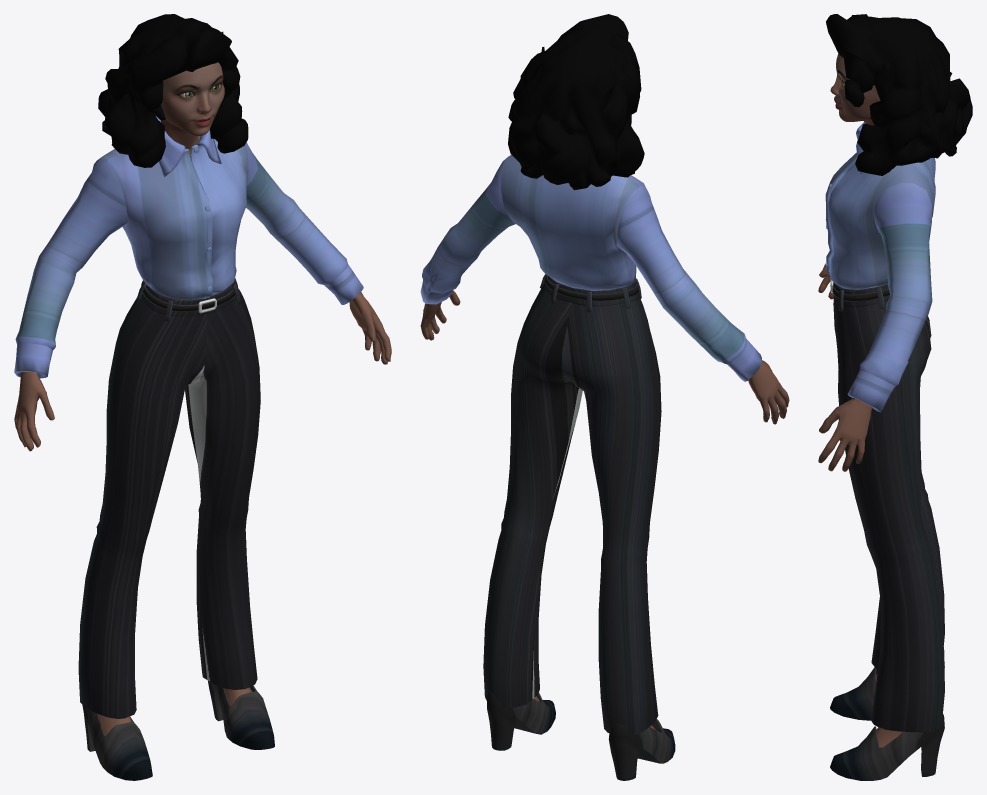
File: JudgeEliza.fbx
3 renders of one model, left to right at view 1: azimuth 30°, elevation 25°; view 2: azimuth 150°, elevation 25°; view 3: azimuth 270°, elevation 25°, orthographic. The views are drawn at different scales.
Visible parts, largest first — view 1: Wolf3D_Outfit_Bottom, Wolf3D_Outfit_Top, Wolf3D_Hair, Wolf3D_Outfit_Footwear, Wolf3D_Head, Wolf3D_Body; view 2: Wolf3D_Outfit_Bottom, Wolf3D_Outfit_Top, Wolf3D_Hair, Wolf3D_Outfit_Footwear, Wolf3D_Body; view 3: Wolf3D_Outfit_Bottom, Wolf3D_Outfit_Top, Wolf3D_Hair, Wolf3D_Outfit_Footwear, Wolf3D_Body, Wolf3D_Head.
Part boxes in pixels (box(x1,y1,x2,y2)): Wolf3D_Outfit_Bottom: box(78, 278, 260, 718); Wolf3D_Outfit_Top: box(14, 116, 363, 378); Wolf3D_Hair: box(98, 14, 248, 167); Wolf3D_Outfit_Footwear: box(82, 681, 274, 780); Wolf3D_Head: box(161, 62, 224, 157); Wolf3D_Body: box(14, 292, 391, 735); Wolf3D_Outfit_Bottom: box(483, 274, 661, 736); Wolf3D_Outfit_Top: box(420, 155, 761, 381); Wolf3D_Hair: box(508, 14, 644, 190); Wolf3D_Outfit_Footwear: box(487, 692, 675, 780); Wolf3D_Body: box(420, 290, 789, 730); Wolf3D_Outfit_Bottom: box(830, 277, 944, 732); Wolf3D_Outfit_Top: box(825, 122, 935, 412); Wolf3D_Hair: box(826, 14, 972, 175); Wolf3D_Outfit_Footwear: box(830, 661, 944, 780); Wolf3D_Body: box(818, 263, 902, 747); Wolf3D_Head: box(830, 54, 880, 125).
Size of the model in its own units: 0.9279 by 1.78 by 0.3416.
Materials: 8 (8 with a texture image).
